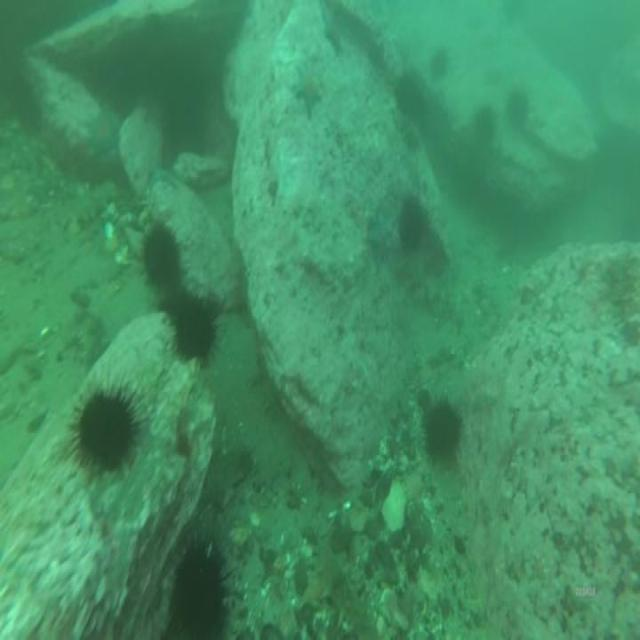echinus: (172, 550, 226, 630), (79, 394, 135, 464), (172, 302, 217, 354), (422, 403, 460, 455), (145, 231, 180, 286), (394, 71, 424, 122), (399, 196, 427, 246), (505, 87, 531, 133), (473, 108, 495, 148), (428, 48, 449, 82)
scallop: (115, 247, 129, 267), (103, 220, 117, 238)
starfish: (298, 66, 322, 114)
